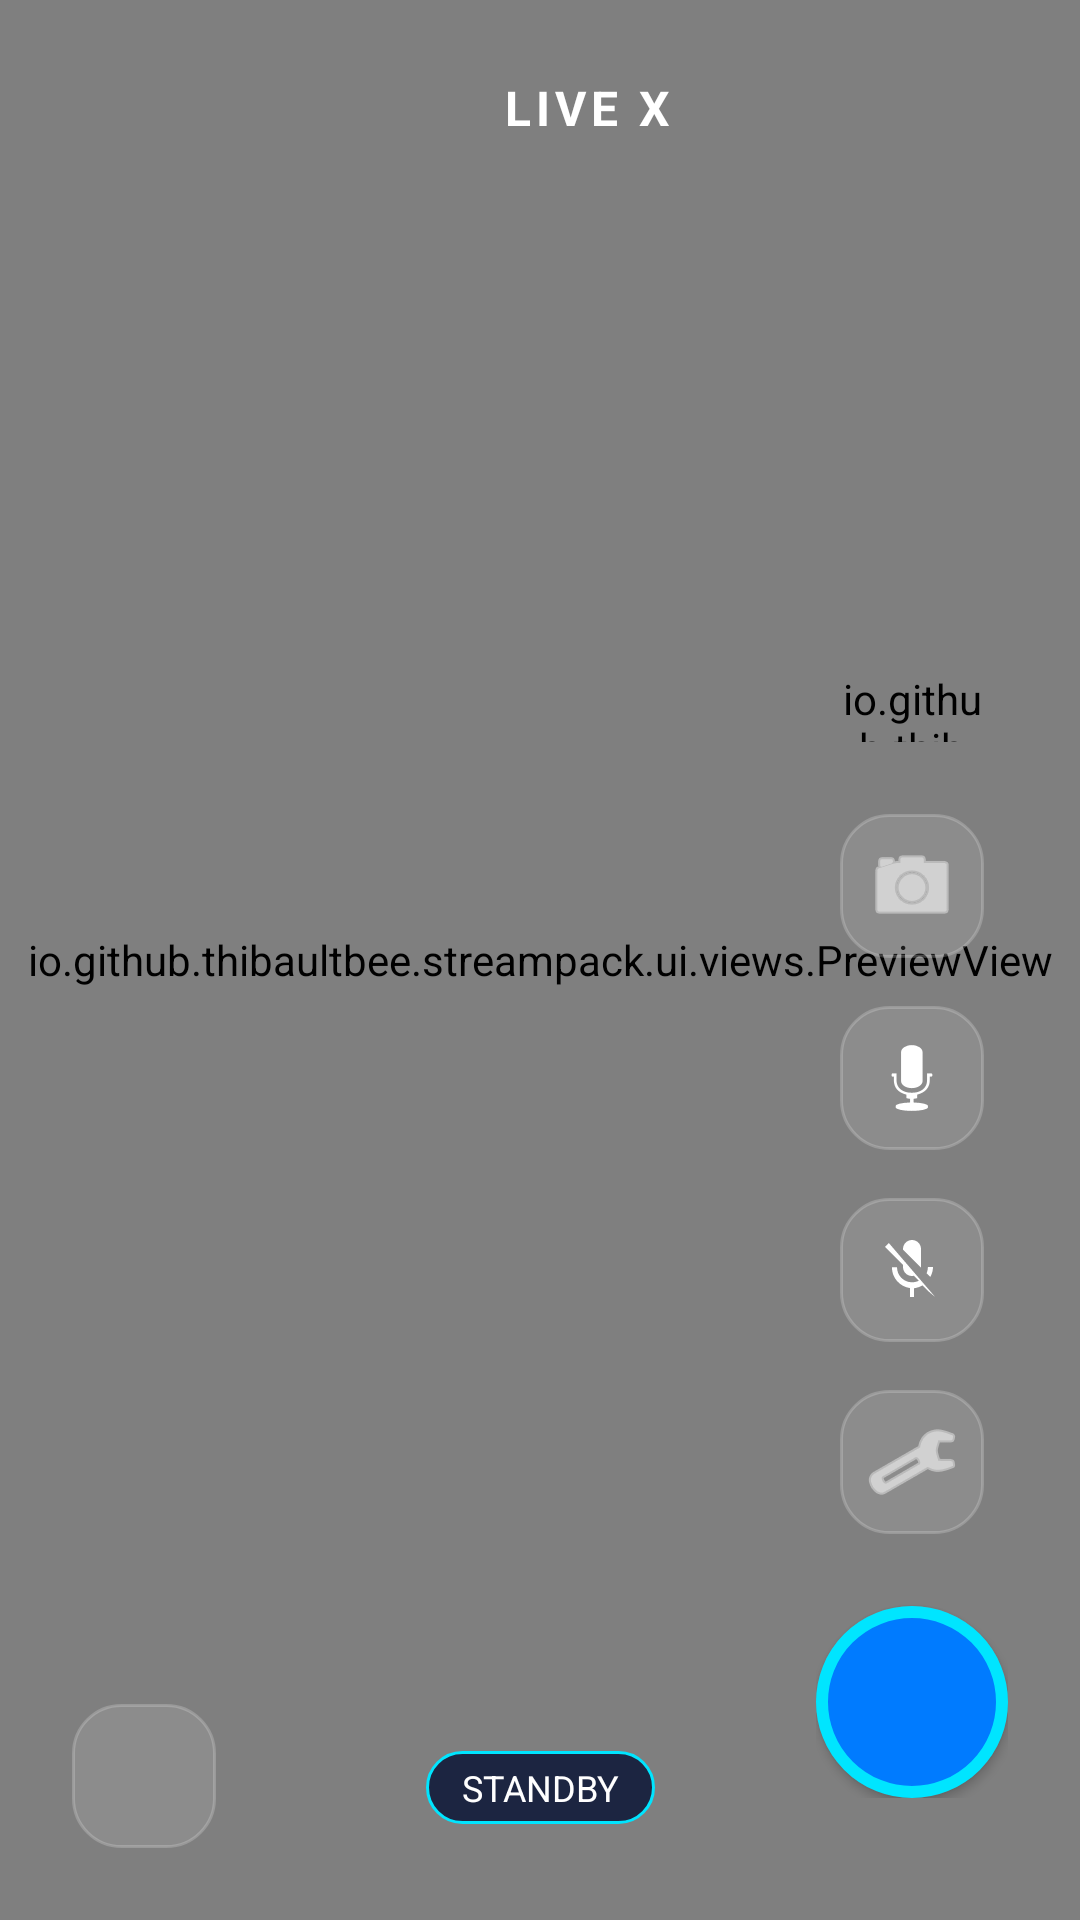

Named icons in this screenshot (1080*1920) and their centers, point (x, y):
mic off: point (912, 1270)
preferences: point (912, 1462)
speak now: point (912, 1078)
